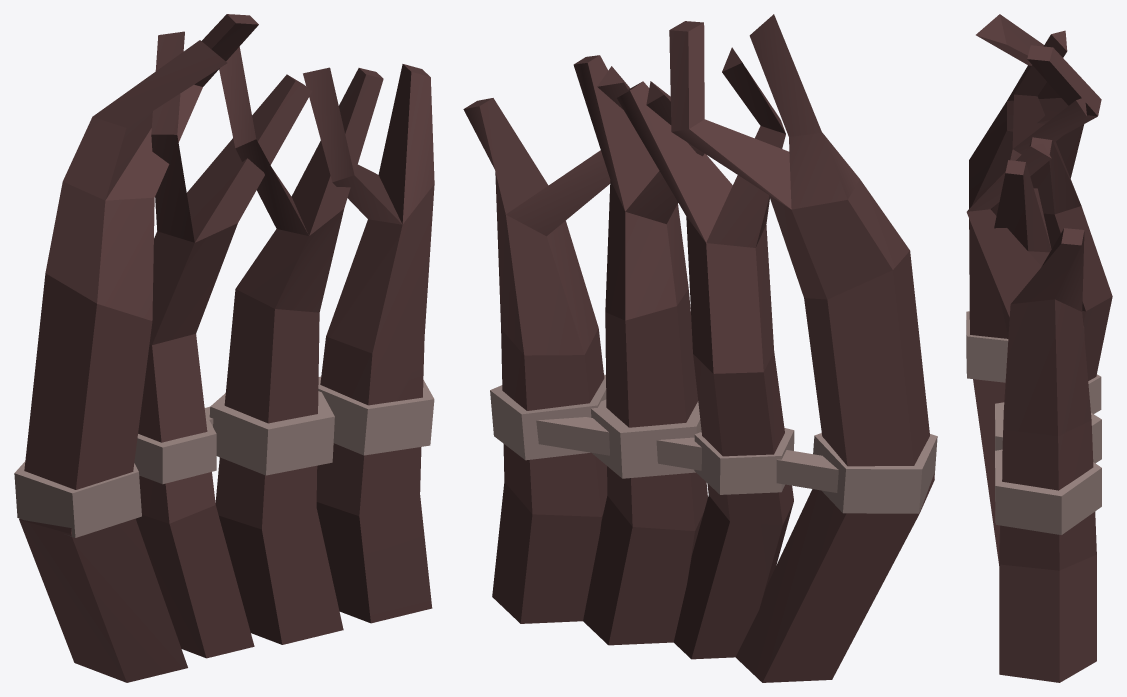
File: TreeDoor.001.fbx
3 views of the same model, side by side, from view 1: azimuth 30°, elevation 25°; view 2: azimuth 150°, elevation 25°; view 3: azimuth 270°, elevation 25° (orthographic). The views are drawn at different scales.
Parts seen in each view (by area): view 1: TreeDoor_001; view 2: TreeDoor_001; view 3: TreeDoor_001.
Boxes of the visible parts, bbox=[...] form: TreeDoor_001: bbox=[14, 14, 434, 682]; TreeDoor_001: bbox=[463, 14, 937, 682]; TreeDoor_001: bbox=[966, 14, 1112, 682].
Bounding box in the file's own units: 319 × 437 × 104.
